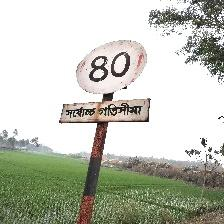Speed-limit: (62, 39, 151, 124)
